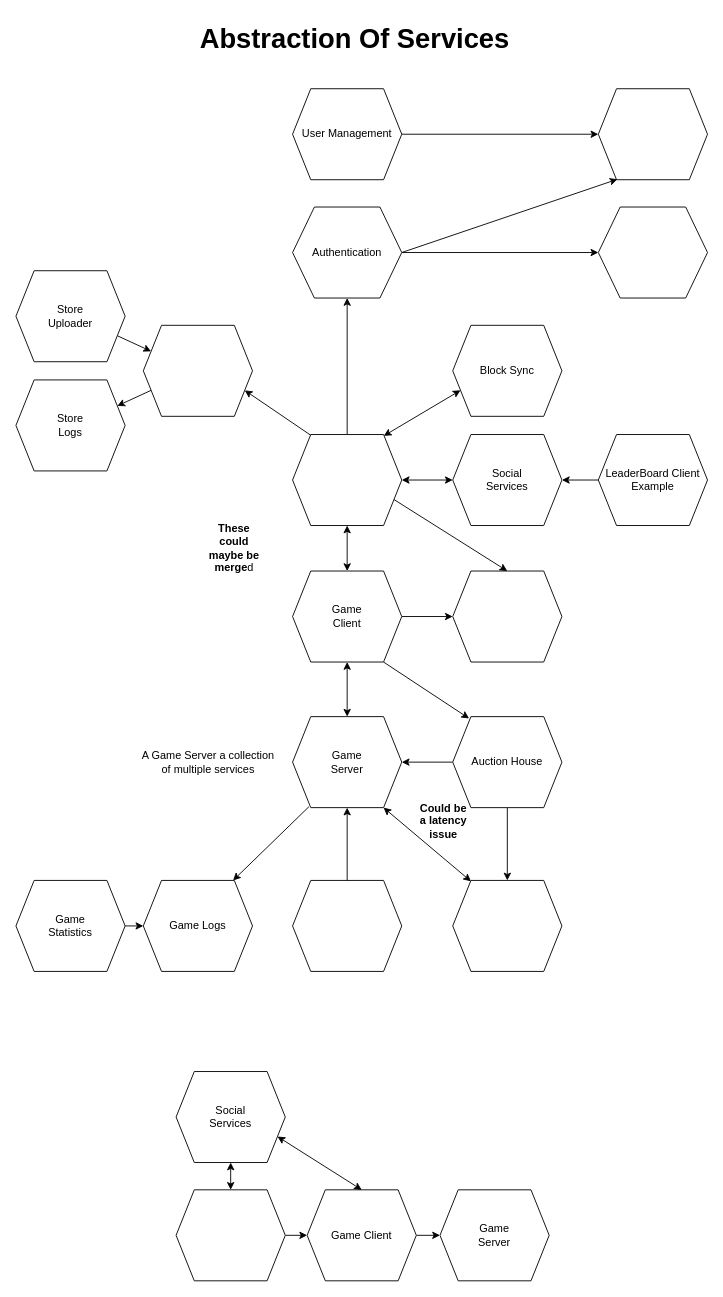
Some shapes in this 723 by 1297 pixel diagram are drawn without their labels. Each missing label, with the box of its shape:
Account Service: (175, 1189, 285, 1281)
Authenticator: (597, 206, 708, 298)
Client Interface: (292, 434, 402, 526)
Client Store: (142, 324, 253, 416)
Design Portal: (292, 880, 402, 971)
Email: (597, 88, 708, 180)
Post System: (452, 880, 562, 971)
Shared Chat: (452, 570, 562, 662)
